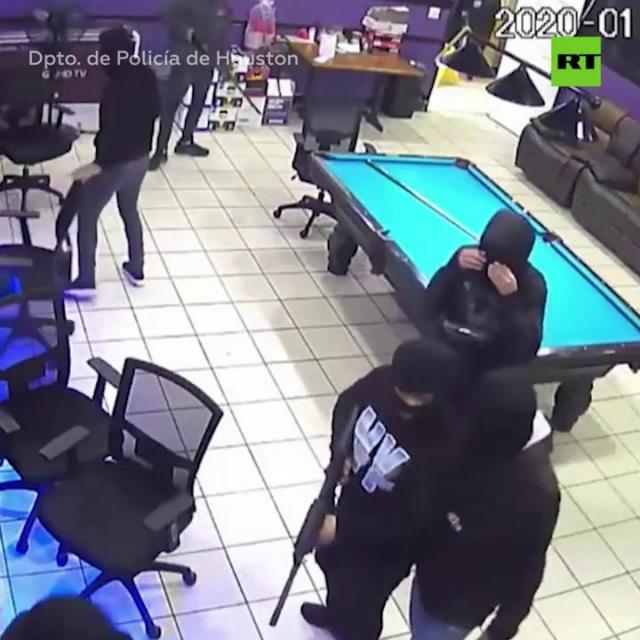weapon: (252, 394, 389, 636), (252, 394, 389, 628)
